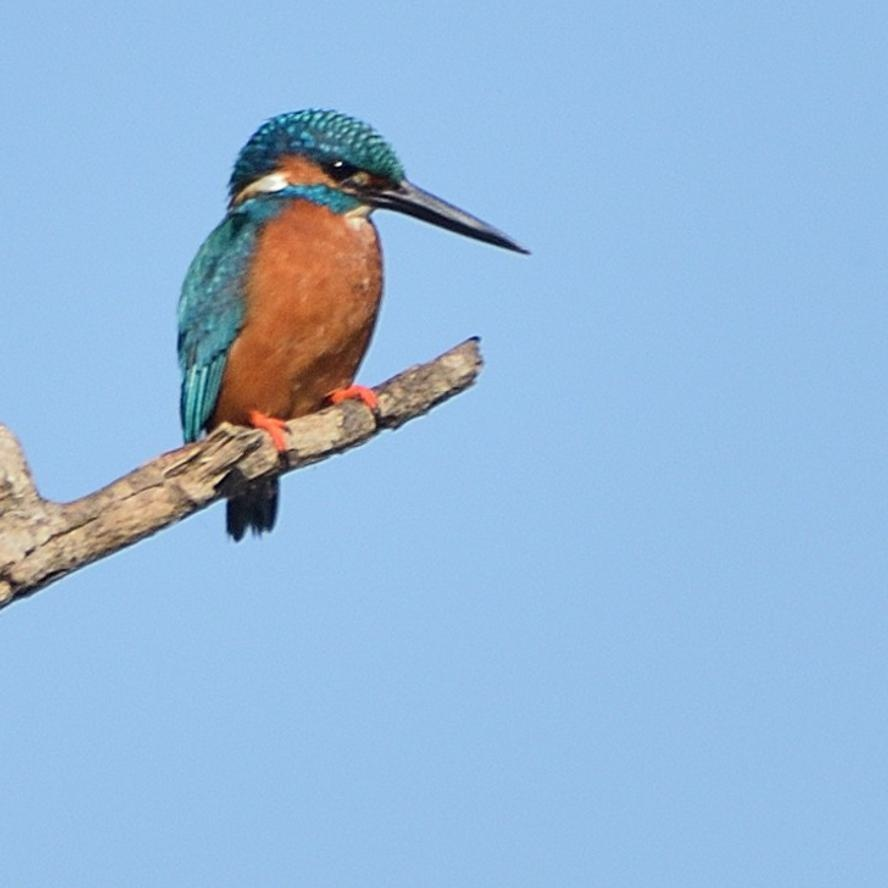kingfisher: (165, 94, 535, 544)
